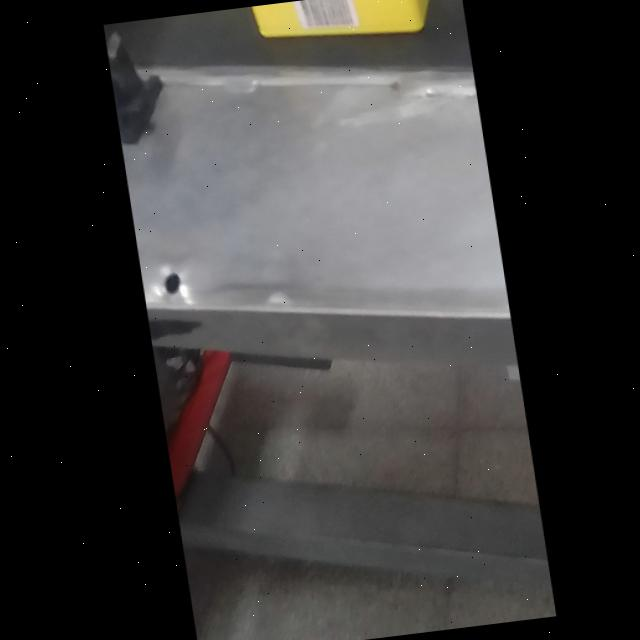yellowBox: (227, 0, 464, 62)
